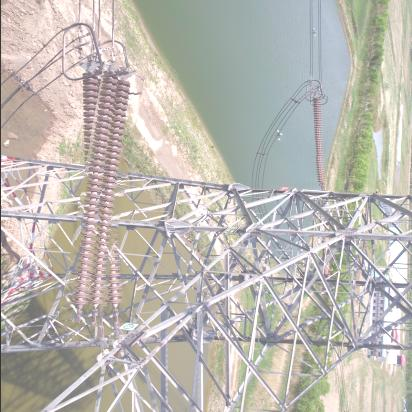insulator: (70, 67, 135, 328), (313, 98, 328, 188)
